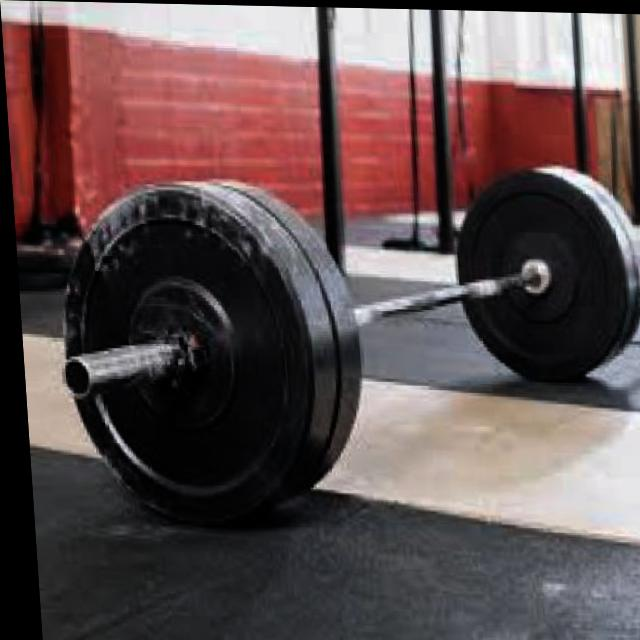barbell: (34, 175, 329, 535)
